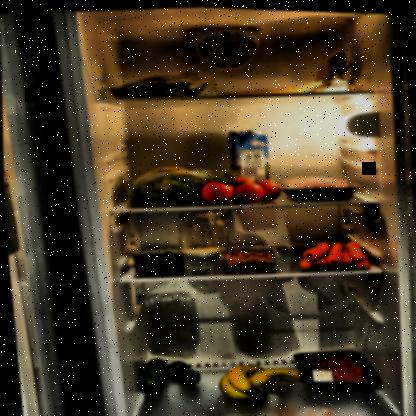banana: (216, 358, 309, 404)
beef: (290, 344, 381, 394)
blueberries: (128, 245, 187, 275)
carrot: (292, 234, 375, 274)
green_beans: (105, 70, 222, 104)
ground_beef: (276, 169, 363, 202)
lime: (134, 354, 200, 395)
milk: (226, 125, 275, 192)
shrimp: (219, 245, 281, 272)
spinach: (124, 158, 238, 207)
tomato: (197, 170, 283, 207)
